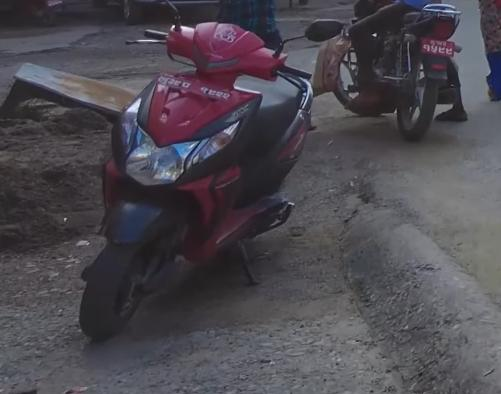bike: (323, 0, 465, 143)
scooter: (74, 9, 347, 347)
